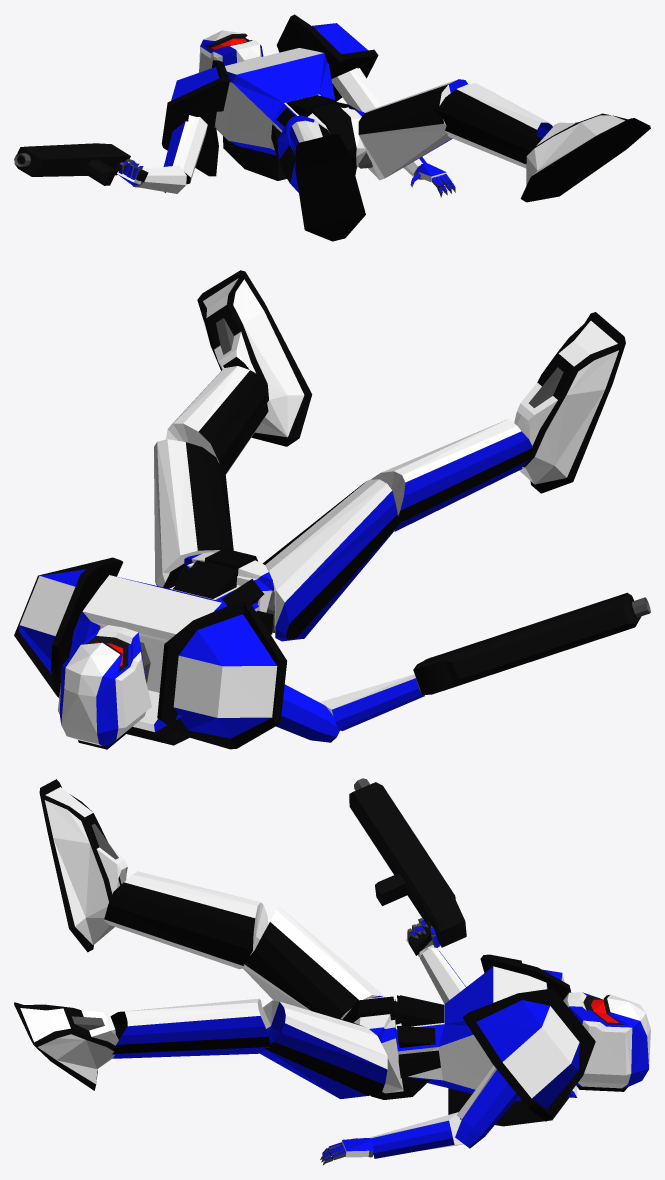
Rendered from robots_000037.obj.
3 renders of one model, top to bottom at view 1: azimuth 30°, elevation 25°; view 2: azimuth 150°, elevation 25°; view 3: azimuth 270°, elevation 25°, orthographic. The views are drawn at different scales.
Parts seen in each view (by area): view 1: Chest_plate_Cube.004, R_Foot.002_Cube.035, R_Foot_Cube, R_Thigh.002_Cube.027, R_Shin.002_Cube.029, Cube.002_Cube.059, Cube_Cube.001, Cube_Cube.021, Head_base_Cube.022, Pelvis_Cube.006, R_Arm_Cube.002, L_Arm_Cube.014 (+4 smaller); view 2: Cube.002_Cube.059, R_Thigh_Cube.005, Chest_plate_Cube.004, R_Foot_Cube, R_Foot.002_Cube.035, R_Thigh.002_Cube.027, Head_base_Cube.022, Cube_Cube.001, R_Shin_Cube.007, Cube_Cube.021, R_Shin.002_Cube.029, R_Forearm_Cube.008 (+2 smaller); view 3: Cube_Cube.021, Chest_plate_Cube.004, R_Shin_Cube.007, R_Thigh.002_Cube.027, R_Foot_Cube, Cube_Cube.001, R_Thigh_Cube.005, R_Shin.002_Cube.029, Head_base_Cube.022, R_Foot.002_Cube.035, Pelvis_Cube.006, L_Arm_Cube.014 (+4 smaller).
Boxes of the visible parts, x1,y1,x2,y2 form: Chest_plate_Cube.004: (214, 48, 357, 180); R_Foot.002_Cube.035: (520, 113, 650, 202); R_Foot_Cube: (295, 134, 365, 241); R_Thigh.002_Cube.027: (358, 79, 467, 180); R_Shin.002_Cube.029: (437, 83, 552, 168); Cube.002_Cube.059: (161, 60, 229, 176); Cube_Cube.001: (14, 143, 148, 185); Cube_Cube.021: (276, 14, 378, 101); Head_base_Cube.022: (198, 30, 263, 72); Pelvis_Cube.006: (308, 103, 366, 174); R_Arm_Cube.002: (163, 115, 207, 192); L_Arm_Cube.014: (331, 68, 383, 112); Cube.002_Cube.059: (157, 601, 287, 749); R_Thigh_Cube.005: (262, 479, 398, 641); Chest_plate_Cube.004: (69, 560, 273, 745); R_Foot_Cube: (514, 312, 625, 493); R_Foot.002_Cube.035: (197, 270, 312, 446); R_Thigh.002_Cube.027: (154, 439, 233, 587); Head_base_Cube.022: (58, 625, 151, 749); Cube_Cube.001: (413, 592, 650, 695); R_Shin_Cube.007: (371, 419, 533, 531); Cube_Cube.021: (14, 557, 123, 697); R_Shin.002_Cube.029: (166, 366, 268, 474); R_Forearm_Cube.008: (319, 674, 424, 731); Cube_Cube.021: (463, 988, 595, 1121); Chest_plate_Cube.004: (396, 966, 577, 1126); R_Shin_Cube.007: (104, 871, 268, 969); R_Thigh.002_Cube.027: (259, 1000, 387, 1099); R_Foot_Cube: (39, 779, 127, 952); Cube_Cube.001: (349, 778, 466, 955); R_Thigh_Cube.005: (242, 906, 385, 1019); R_Shin.002_Cube.029: (110, 998, 270, 1058); Head_base_Cube.022: (563, 992, 650, 1091); R_Foot.002_Cube.035: (14, 1002, 119, 1090); Pelvis_Cube.006: (342, 995, 429, 1099); L_Arm_Cube.014: (455, 1066, 518, 1148).
Bounding box in the file's own units: 3.23 × 1.31 × 3.1.
